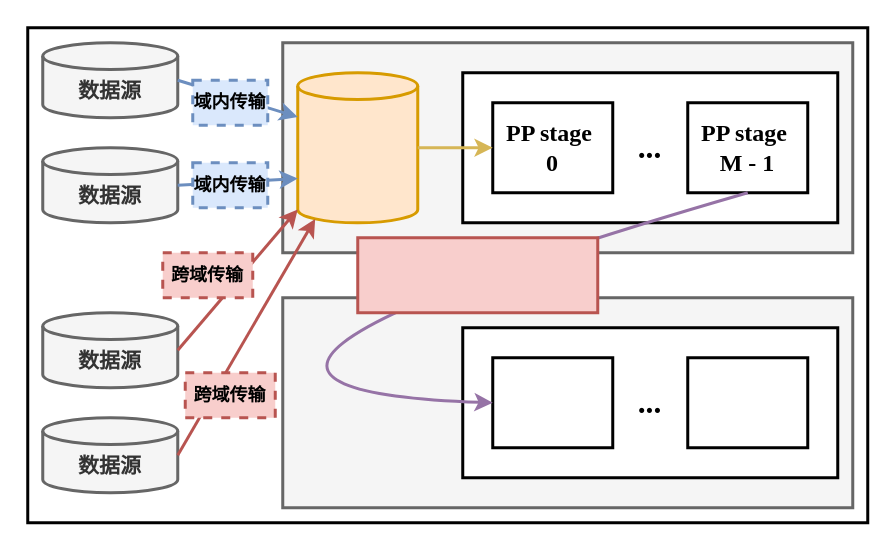
The diagram is 894 pixels wide and 549 high, and some of its shapes have lost their labels. The shapes that lost their labels are listed below. From the top down, each one's centre as x and y in pixels, then its label:
At point (357, 147): "数据聚合 管道".
At point (477, 275): "跨域 激活值 & 梯度 传输".
At point (552, 402): "PP stage M".
At point (747, 402): "PP stage 2M - 1".
